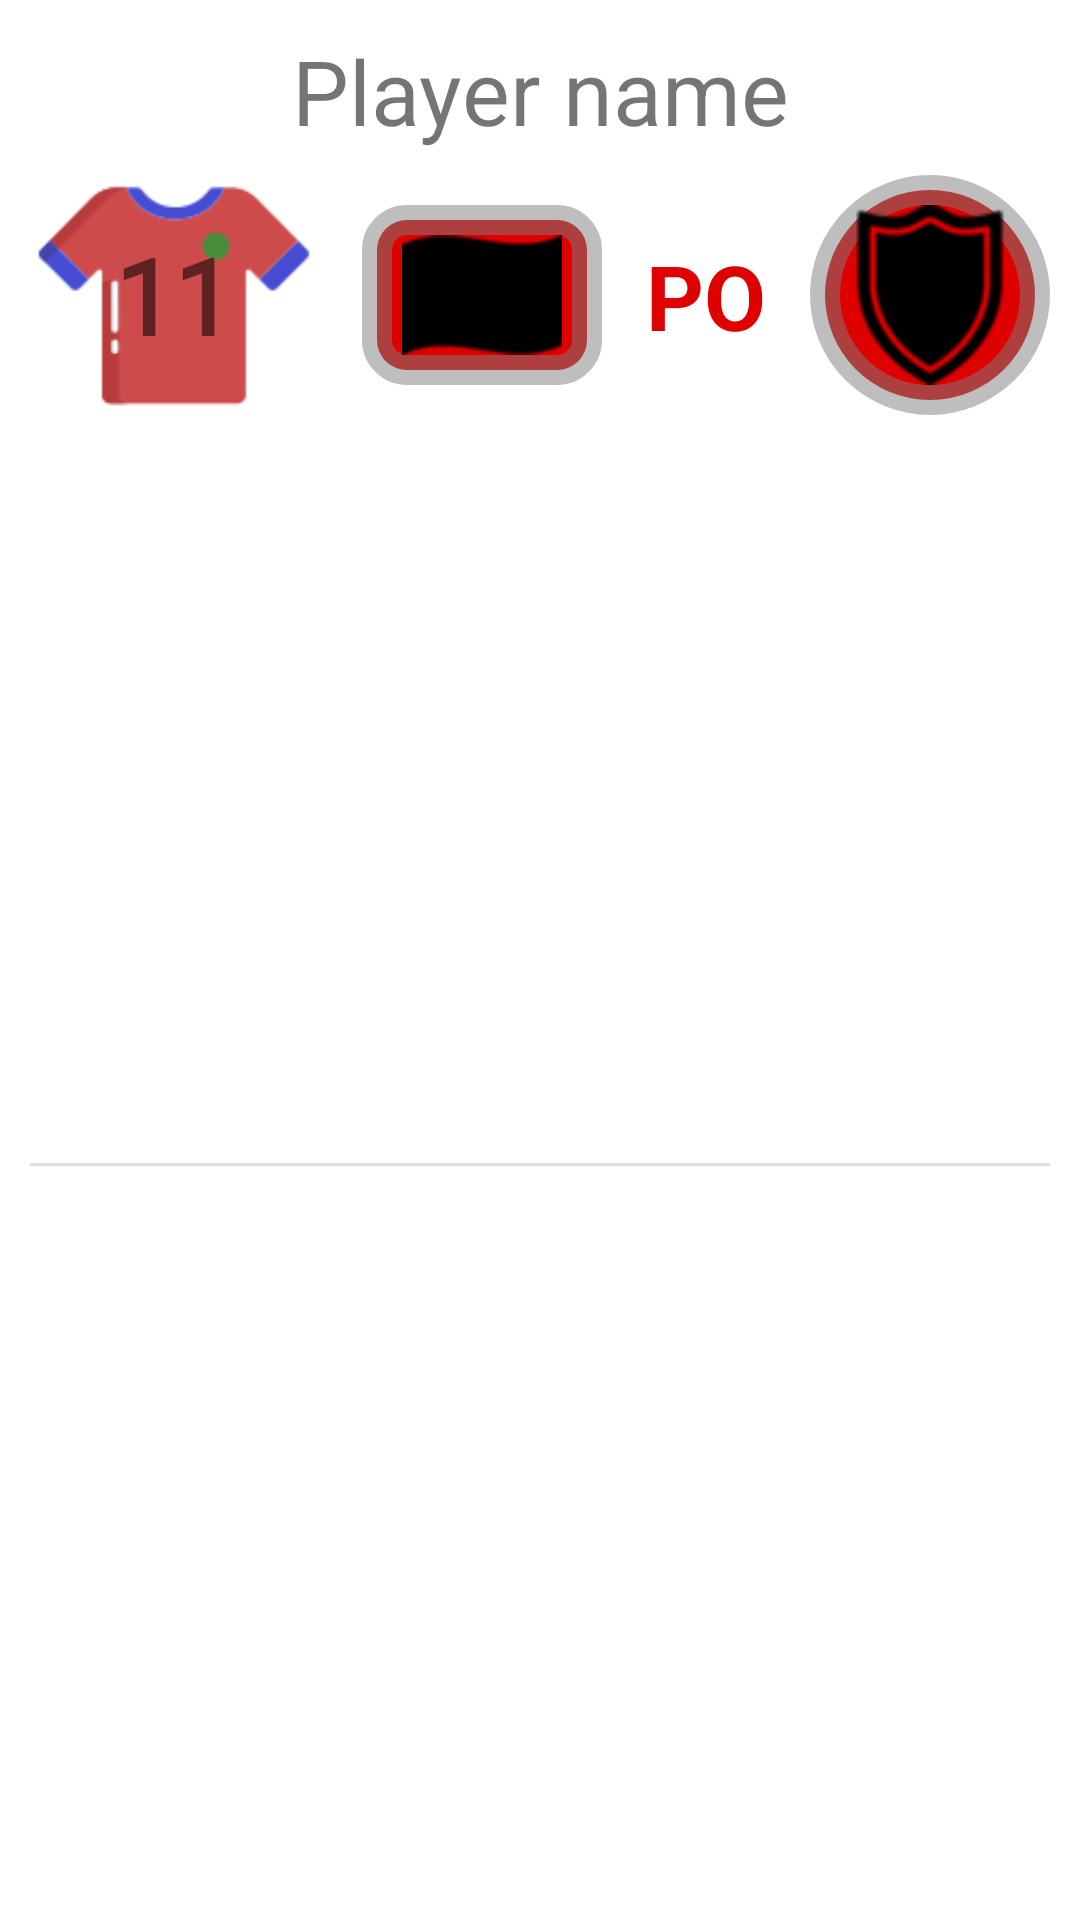

Screen size 1080px x 1920px. Icon name, then its center in pixels as (x=x, y=y):
badge: (x=930, y=295)
flag: (x=482, y=295)
shirt: (x=174, y=296)
